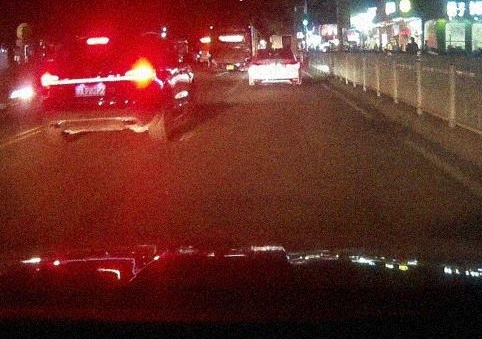L_light: (40, 72, 59, 87), (250, 59, 265, 65)
R_light: (124, 58, 156, 90), (280, 59, 297, 64)
T_light: (86, 37, 109, 45), (271, 49, 278, 51)
night-no: (248, 48, 300, 87)
night-right: (40, 33, 164, 141)
